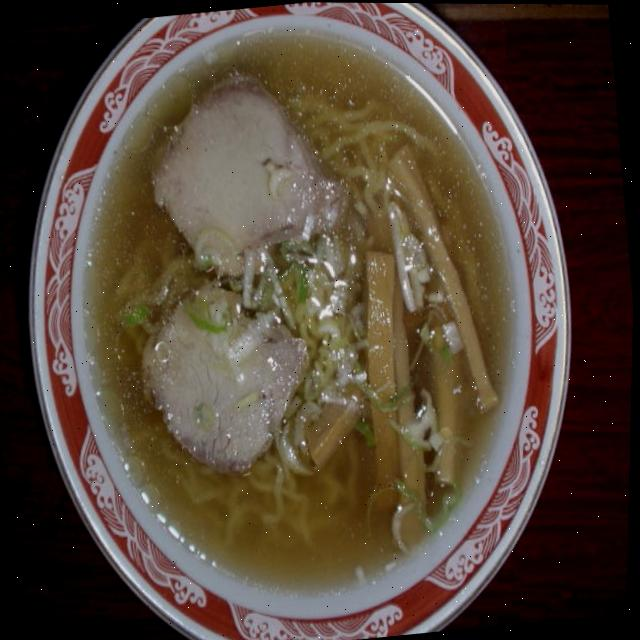面条主食: (0, 0, 607, 640)
